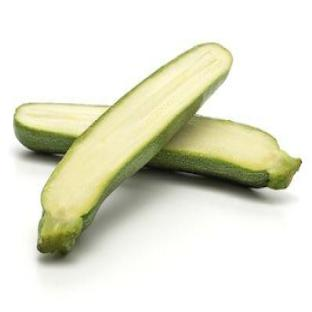Zucchini: (38, 44, 232, 253), (149, 116, 301, 188)
